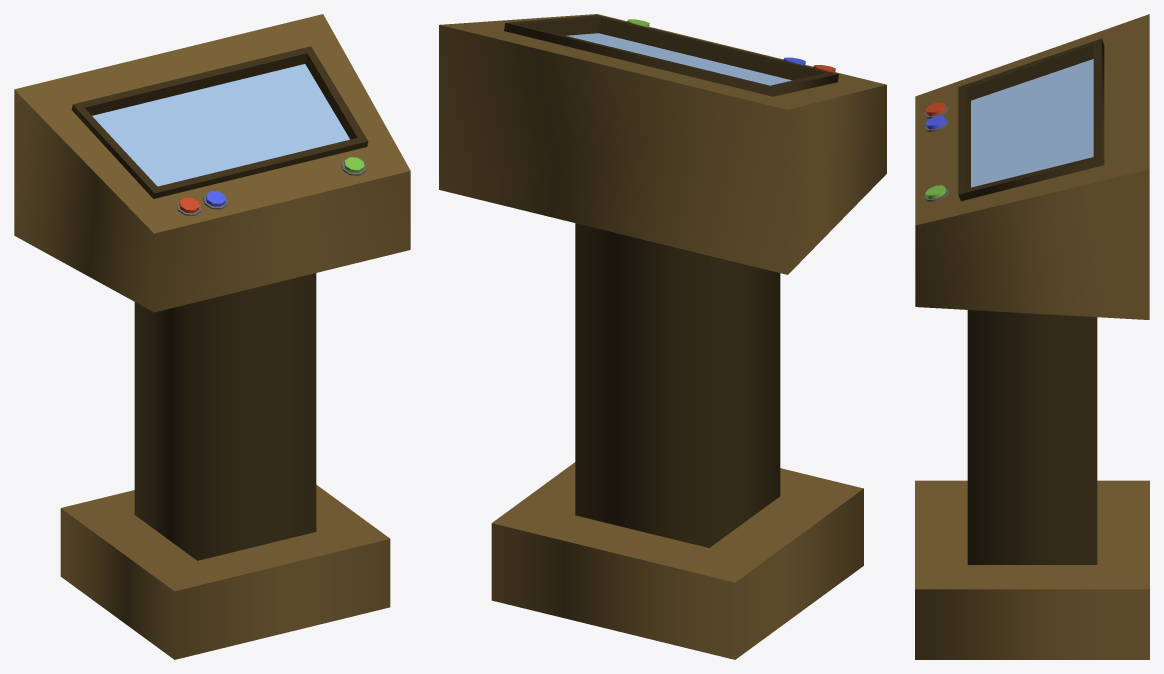
File: Control Panel.glb
3 views of the same model, side by side, from view 1: azimuth 30°, elevation 25°; view 2: azimuth 150°, elevation 25°; view 3: azimuth 270°, elevation 25° (orthographic). The views are drawn at different scales.
Visible parts, largest first — view 1: Box001; view 2: Box001; view 3: Box001.
Part boxes in pixels (x1=…): Box001: x1=14, y1=14, x2=410, y2=659; Box001: x1=439, y1=14, x2=886, y2=659; Box001: x1=915, y1=14, x2=1149, y2=659.
Size of the model in its own units: 30.04 by 46.32 by 19.18.
